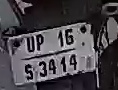1: (55, 30, 64, 51), (60, 55, 69, 73)
3: (37, 59, 48, 79)
4: (46, 56, 58, 77), (67, 52, 80, 71)
6: (64, 29, 75, 46)
P: (34, 34, 46, 55)
S: (21, 61, 35, 82)
U: (26, 35, 36, 56)
